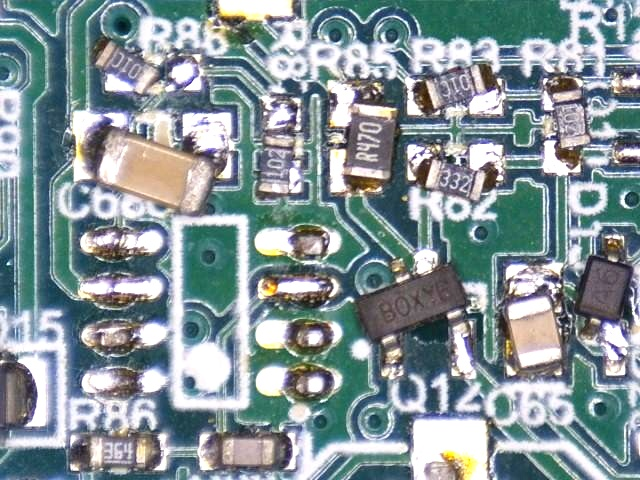pcb_defect: (70, 110, 233, 219), (354, 250, 478, 381), (574, 234, 634, 379), (327, 77, 399, 195), (500, 262, 564, 379), (92, 36, 203, 98), (406, 142, 504, 203), (405, 63, 505, 118), (541, 76, 592, 175), (256, 95, 304, 197)
